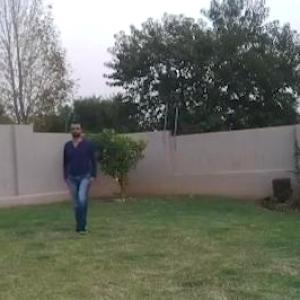follow: (61, 121, 98, 237)
